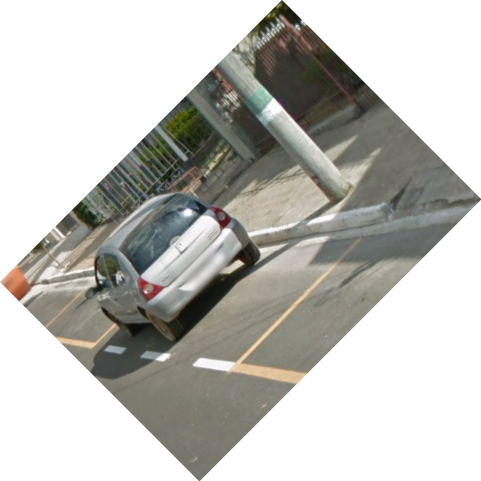car: (82, 189, 266, 343)
